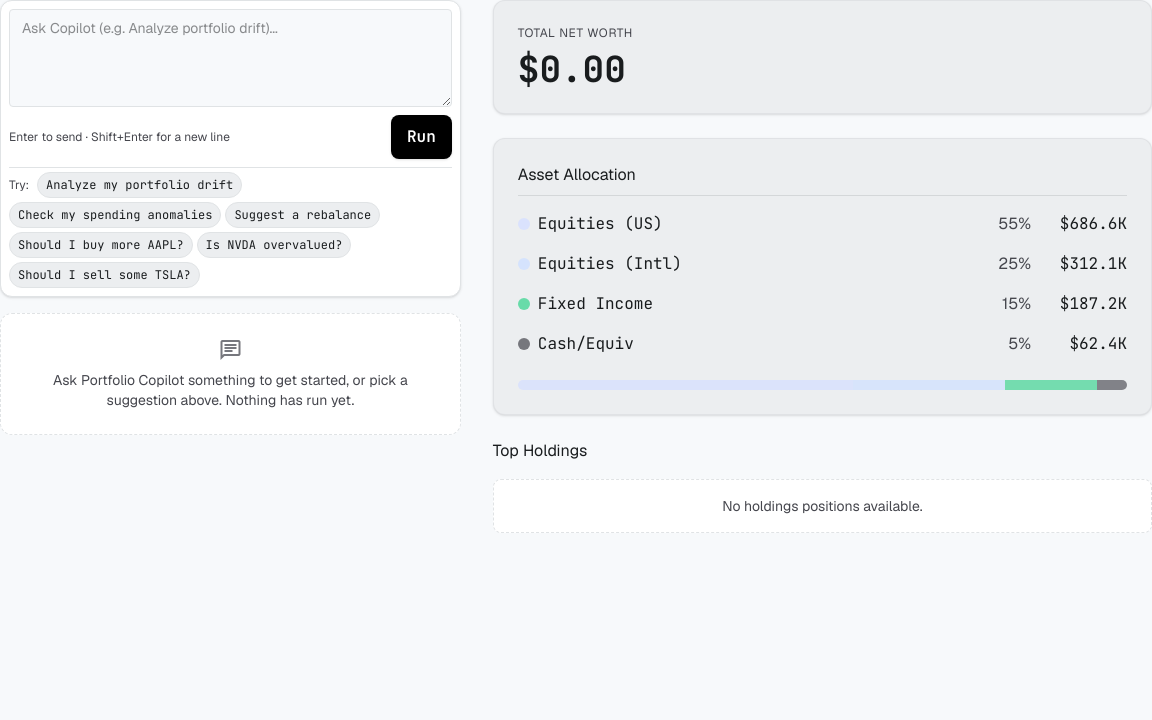
Frontend Views › DashboardView keeps suggestion prompts after a turn and renders responses as prose (not raw JSON)
The image size is (1152, 720).
Click the button with test id "example-prompt" showing "Analyze my portfolio drift" at (140, 185), box [37,172,242,198]
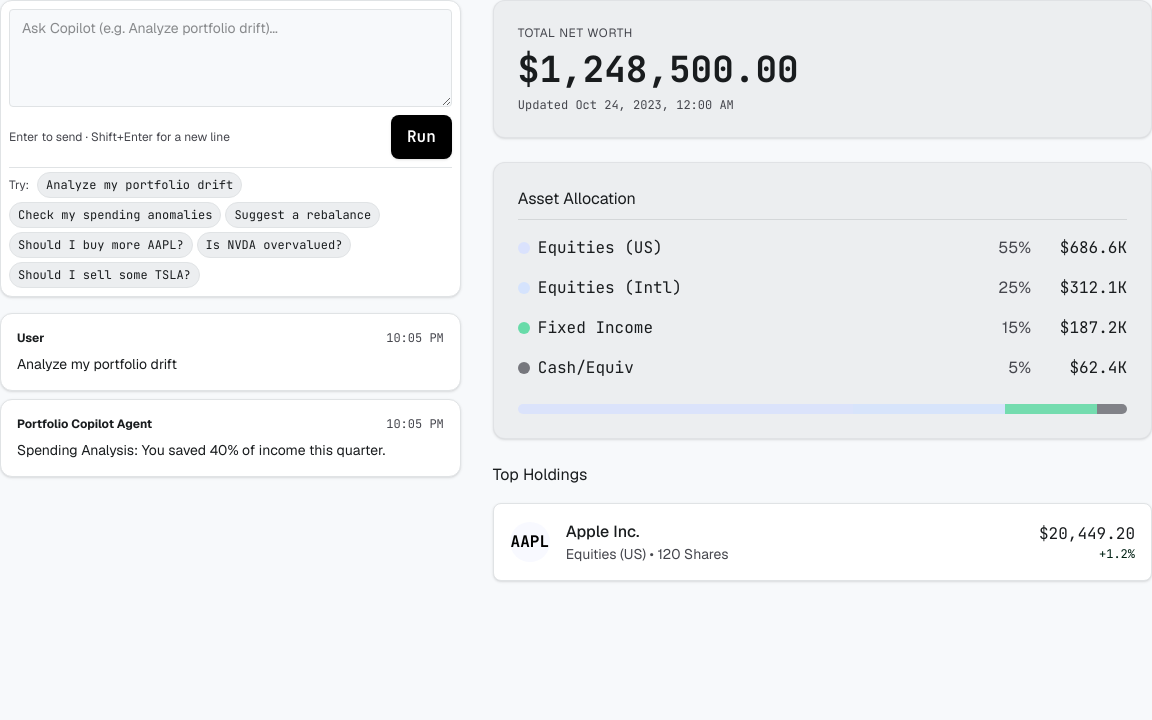
Expected: the element with test id "dashboard-empty-state" is gone
Expected: the text "Spending Analysis: You saved 40% of income this quarter." is shown, [17,440,444,460]
